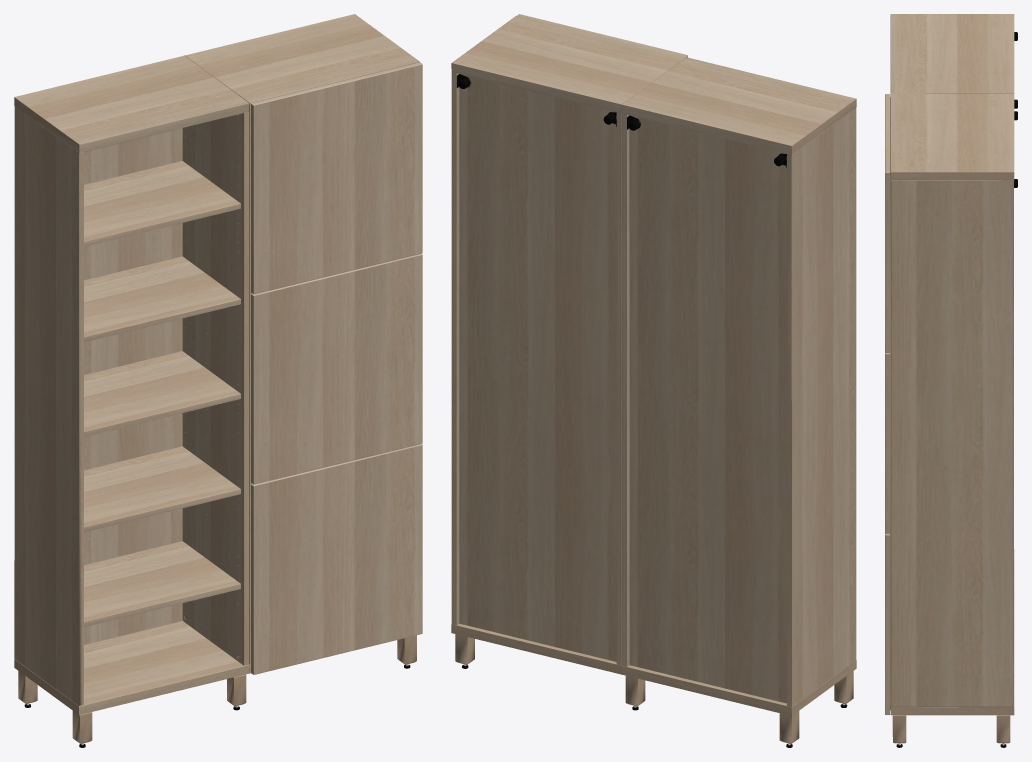
Rendered from besta_kombinacja_z_drzwiami_39301771.glb.
3 views of the same model, side by side, from view 1: azimuth 30°, elevation 25°; view 2: azimuth 150°, elevation 25°; view 3: azimuth 270°, elevation 25° (orthographic). The views are drawn at different scales.
Parts seen in each view (by area): view 1: besta_kombinacja_z_drzwiami_39301771; view 2: besta_kombinacja_z_drzwiami_39301771; view 3: besta_kombinacja_z_drzwiami_39301771.
Part boxes in pixels (x1,y1,x2,y2): besta_kombinacja_z_drzwiami_39301771: (14, 14, 422, 747); besta_kombinacja_z_drzwiami_39301771: (451, 14, 856, 747); besta_kombinacja_z_drzwiami_39301771: (885, 14, 1017, 747).
Size of the model in its own units: 1.2 by 2.04 by 0.4252.
1 material, 1 textured.
